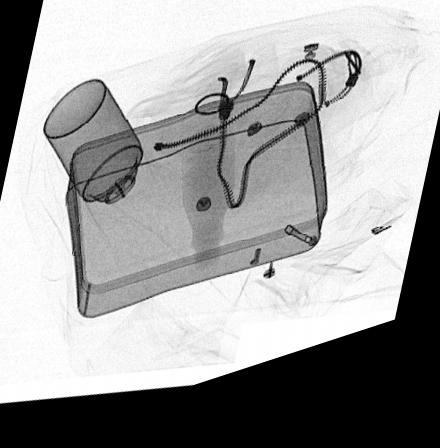Sprayer: (40, 83, 155, 239)
